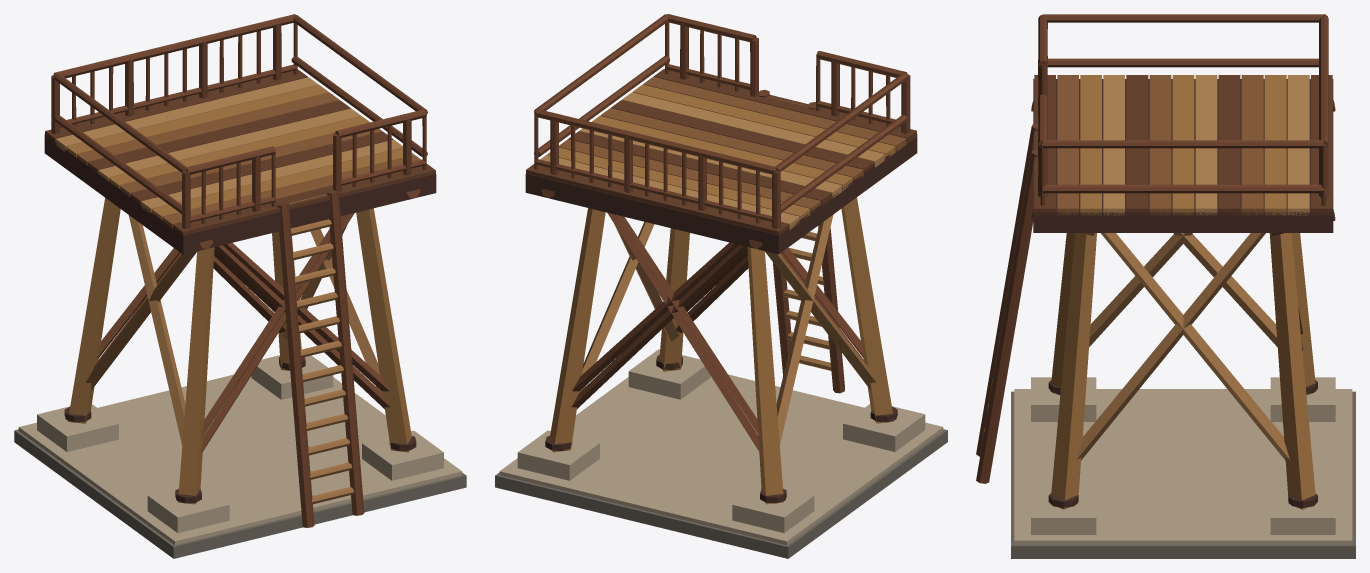
The model's file is watch-nivel-1.glb.
The picture shows the model from 3 angles, left to right: view 1: azimuth 30°, elevation 25°; view 2: azimuth 150°, elevation 25°; view 3: azimuth 270°, elevation 25°; orthographic projection. The views are drawn at different scales.
Visible parts, largest first — view 1: Vigia 01 #b4a38a, Vigia 01 #70432c, Vigia 01 #a87642, Vigia 01 #9f7145, Vigia 01 #683f2a, Vigia 01 #4c3028, Vigia 01 #b68755, Vigia 01 #746c62, Vigia 01 #8b5c37; view 2: Vigia 01 #b4a38a, Vigia 01 #70432c, Vigia 01 #a87642, Vigia 01 #683f2a, Vigia 01 #4c3028, Vigia 01 #9f7145, Vigia 01 #8b5c37, Vigia 01 #746c62, Vigia 01 #b68755; view 3: Vigia 01 #b4a38a, Vigia 01 #a87642, Vigia 01 #70432c, Vigia 01 #9f7145, Vigia 01 #4c3028, Vigia 01 #683f2a, Vigia 01 #8b5c37, Vigia 01 #b68755, Vigia 01 #746c62.
Part boxes in pixels (x1=…): Vigia 01 #b4a38a: x1=18, y1=355, x2=462, y2=545; Vigia 01 #70432c: x1=51, y1=14, x2=427, y2=527; Vigia 01 #a87642: x1=66, y1=85, x2=414, y2=504; Vigia 01 #9f7145: x1=86, y1=194, x2=382, y2=504; Vigia 01 #683f2a: x1=45, y1=69, x2=435, y2=235; Vigia 01 #4c3028: x1=44, y1=134, x2=436, y2=503; Vigia 01 #b68755: x1=55, y1=77, x2=402, y2=213; Vigia 01 #746c62: x1=14, y1=429, x2=466, y2=558; Vigia 01 #8b5c37: x1=77, y1=92, x2=421, y2=229; Vigia 01 #b4a38a: x1=499, y1=349, x2=943, y2=545; Vigia 01 #70432c: x1=534, y1=14, x2=910, y2=452; Vigia 01 #a87642: x1=547, y1=84, x2=895, y2=504; Vigia 01 #683f2a: x1=526, y1=69, x2=916, y2=237; Vigia 01 #4c3028: x1=525, y1=134, x2=917, y2=503; Vigia 01 #9f7145: x1=579, y1=96, x2=875, y2=445; Vigia 01 #8b5c37: x1=559, y1=76, x2=906, y2=212; Vigia 01 #746c62: x1=495, y1=429, x2=947, y2=558; Vigia 01 #b68755: x1=540, y1=92, x2=885, y2=229; Vigia 01 #b4a38a: x1=1014, y1=377, x2=1352, y2=544; Vigia 01 #a87642: x1=1050, y1=75, x2=1316, y2=509; Vigia 01 #70432c: x1=976, y1=14, x2=1335, y2=483; Vigia 01 #9f7145: x1=982, y1=159, x2=1289, y2=460; Vigia 01 #4c3028: x1=1033, y1=79, x2=1333, y2=507; Vigia 01 #683f2a: x1=1034, y1=75, x2=1332, y2=215; Vigia 01 #8b5c37: x1=1057, y1=75, x2=1263, y2=215; Vigia 01 #b68755: x1=1103, y1=75, x2=1309, y2=215; Vigia 01 #746c62: x1=1011, y1=391, x2=1355, y2=558.
Size of the model in its own units: 3.88 by 4.73 by 4.03.
